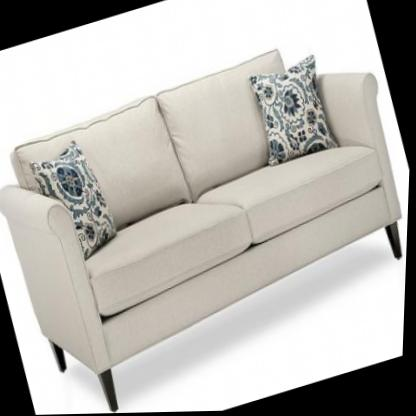Sofa: (0, 22, 415, 416)
